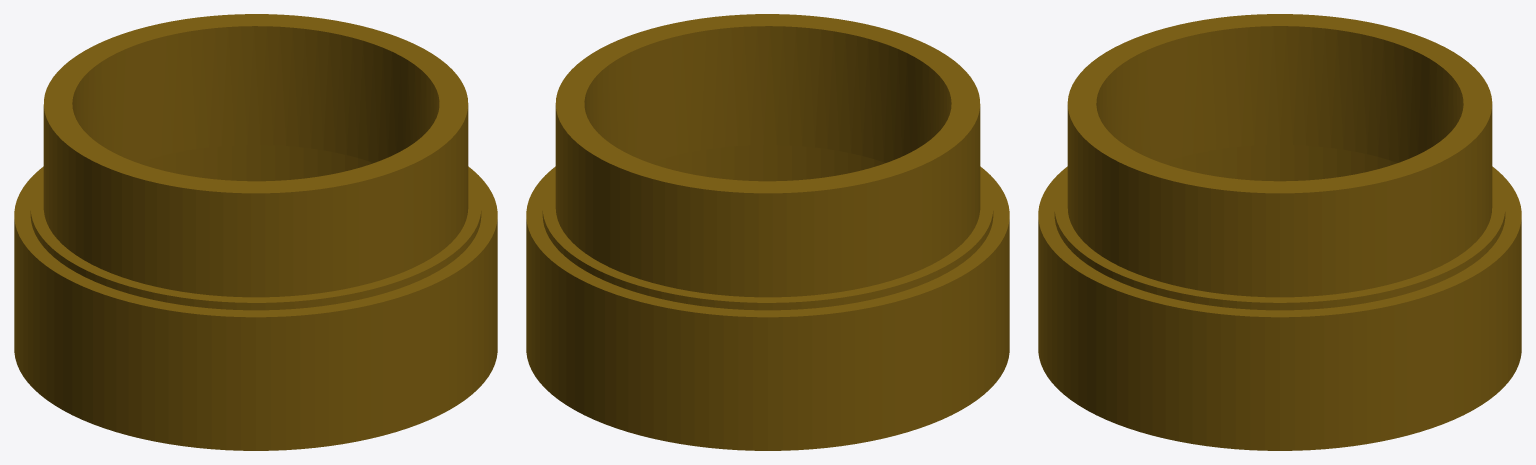
The picture shows the model from 3 angles, left to right: view 1: azimuth 30°, elevation 25°; view 2: azimuth 150°, elevation 25°; view 3: azimuth 270°, elevation 25°; orthographic projection.
Parts seen in each view (by area): view 1: Body1_fil1; view 2: Body1_fil1; view 3: Body1_fil1.
Part boxes in pixels (x1=…): Body1_fil1: x1=14, y1=14, x2=497, y2=450; Body1_fil1: x1=526, y1=14, x2=1009, y2=450; Body1_fil1: x1=1038, y1=14, x2=1521, y2=450.
Size of the model in its own units: 0.059 by 0.033 by 0.059.
